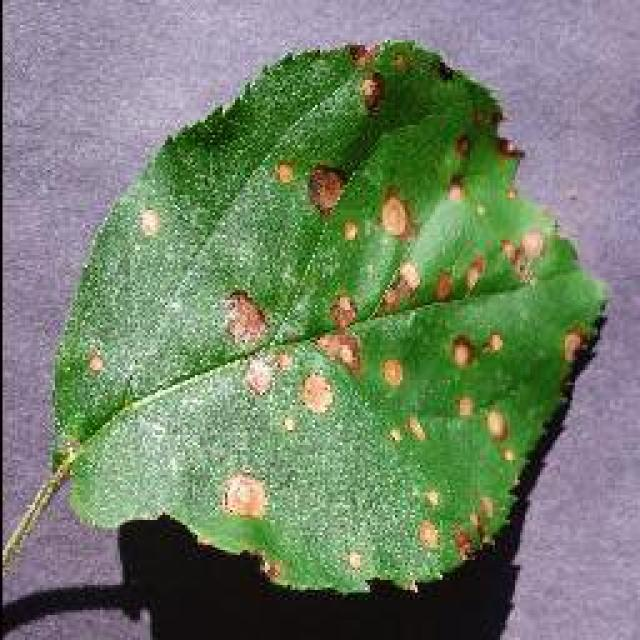apple black rot: (45, 35, 613, 600)
